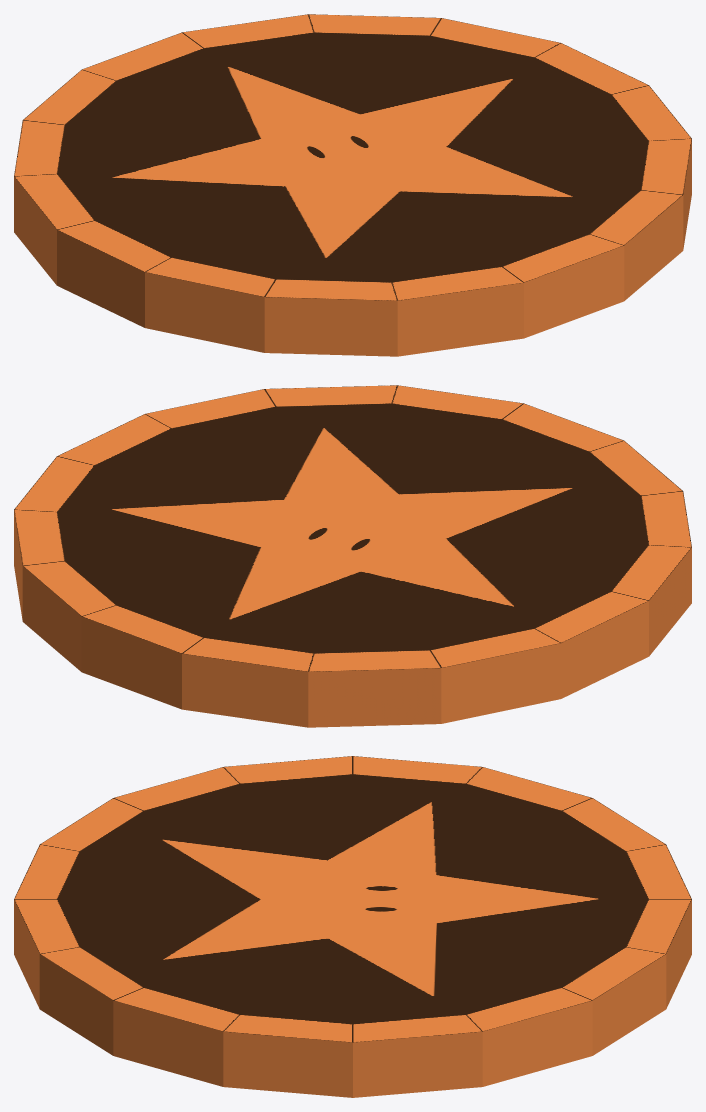
The model's file is Invincibility.fbx.
3 views of the same model, one above another, from view 1: azimuth 30°, elevation 25°; view 2: azimuth 150°, elevation 25°; view 3: azimuth 270°, elevation 25° (orthographic).
Visible parts, largest first — view 1: Invincibility; view 2: Invincibility; view 3: Invincibility.
Boxes of the visible parts, bbox=[...] form: Invincibility: bbox=[14, 14, 691, 356]; Invincibility: bbox=[14, 385, 691, 727]; Invincibility: bbox=[14, 756, 691, 1097].
Bounding box in the file's own units: 30.36 × 2.74 × 30.36.
